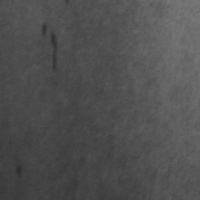inclusion: (37, 19, 62, 75), (12, 160, 27, 183)
